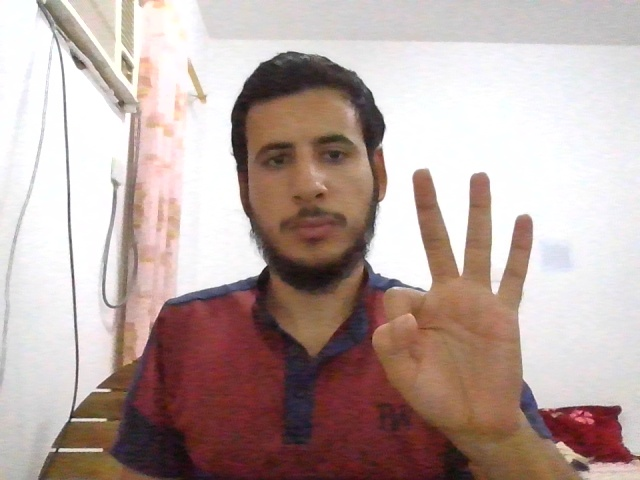Three: (372, 167, 534, 440)
